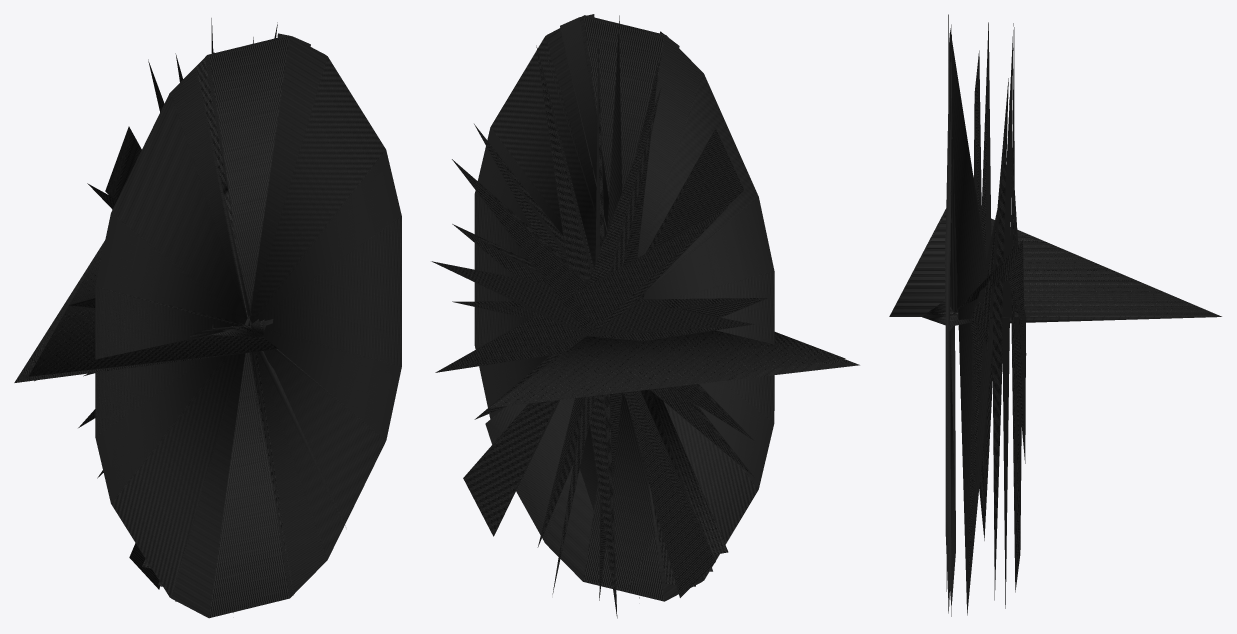
File: Legend.raw.glb
The picture shows the model from 3 angles, left to right: view 1: azimuth 30°, elevation 25°; view 2: azimuth 150°, elevation 25°; view 3: azimuth 270°, elevation 25°; orthographic projection.
Visible parts, largest first — view 1: 后盖-1; view 2: 后盖-1; view 3: 后盖-1.
Part boxes in pixels (x1,y1,x2,y2): 后盖-1: [14, 18, 401, 618]; 后盖-1: [431, 14, 859, 618]; 后盖-1: [889, 14, 1221, 616].
Size of the model in its own units: 44.94 by 63.84 by 33.02.
Materials: 94 (7 with a texture image).
